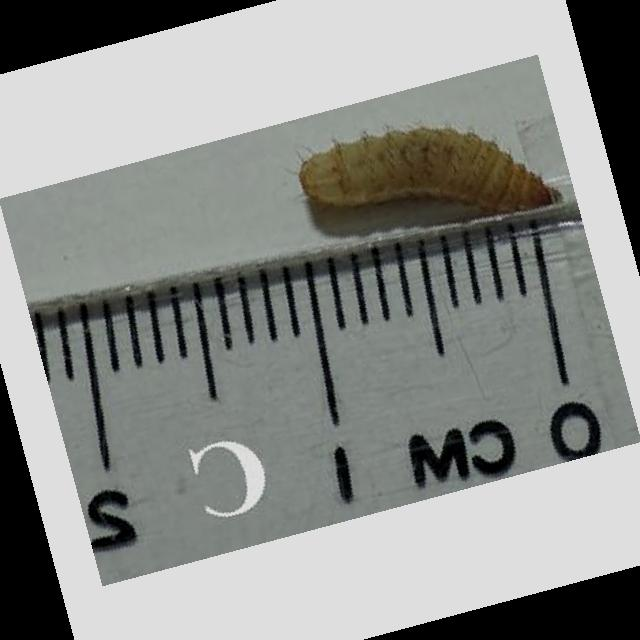Maggot: (295, 125, 562, 216)
